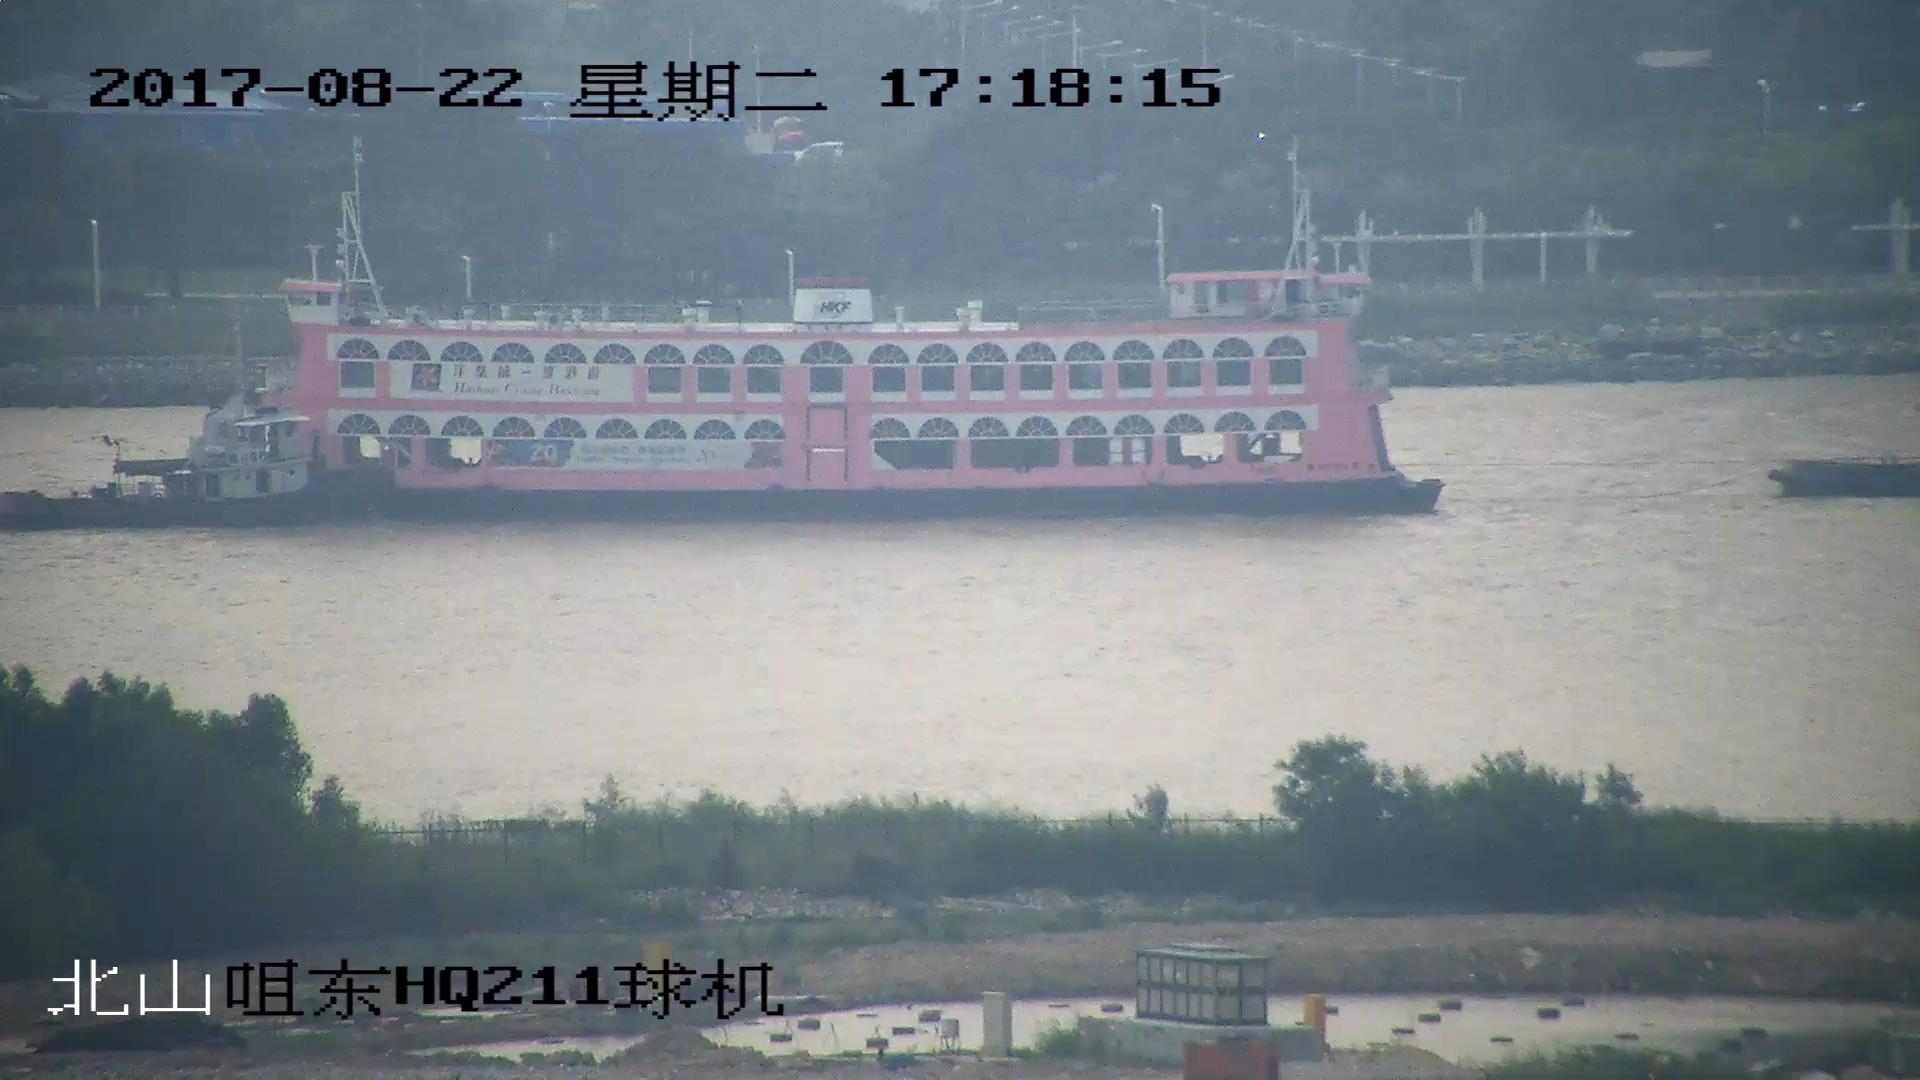passenger ship: (1, 146, 1444, 521)
